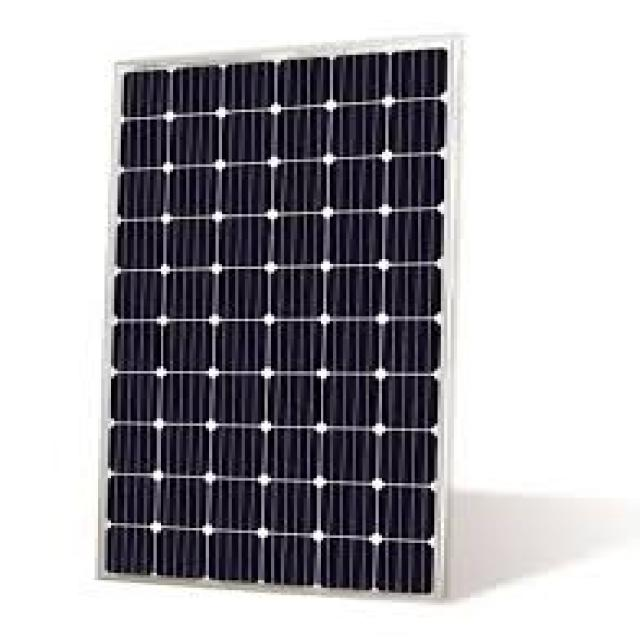Solar: (103, 50, 444, 588)
